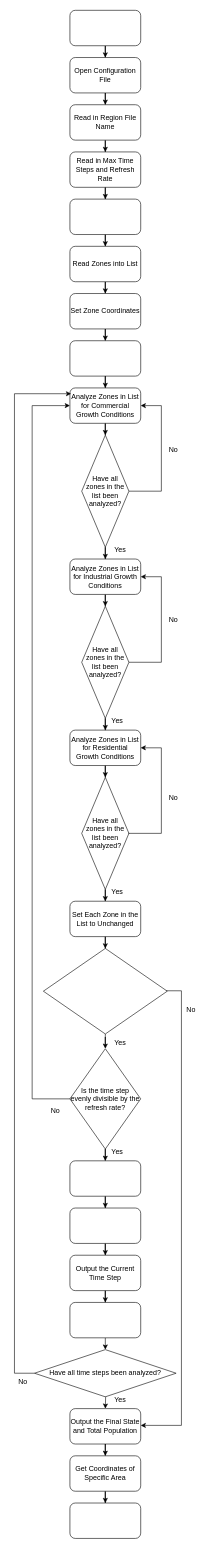
This 213x1549 diagram has some shape labels left out. Each missing label, with the centre of its shape:
Calculate the Current Number of Available Workers: point 105,1225
Create Objects for Each Zone: point 105,217
Did the city experience any growth during the current time step?: point 105,991
Input Configuration File Name: point 105,28
Output Initial State: point 105,358
Output Specific Area: point 105,1520
Output the Current City Map: point 105,1178
Output the Number of Available Workers and Goods: point 105,1320
